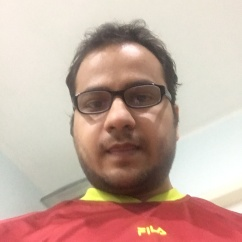glasses: (76, 85, 168, 107)
